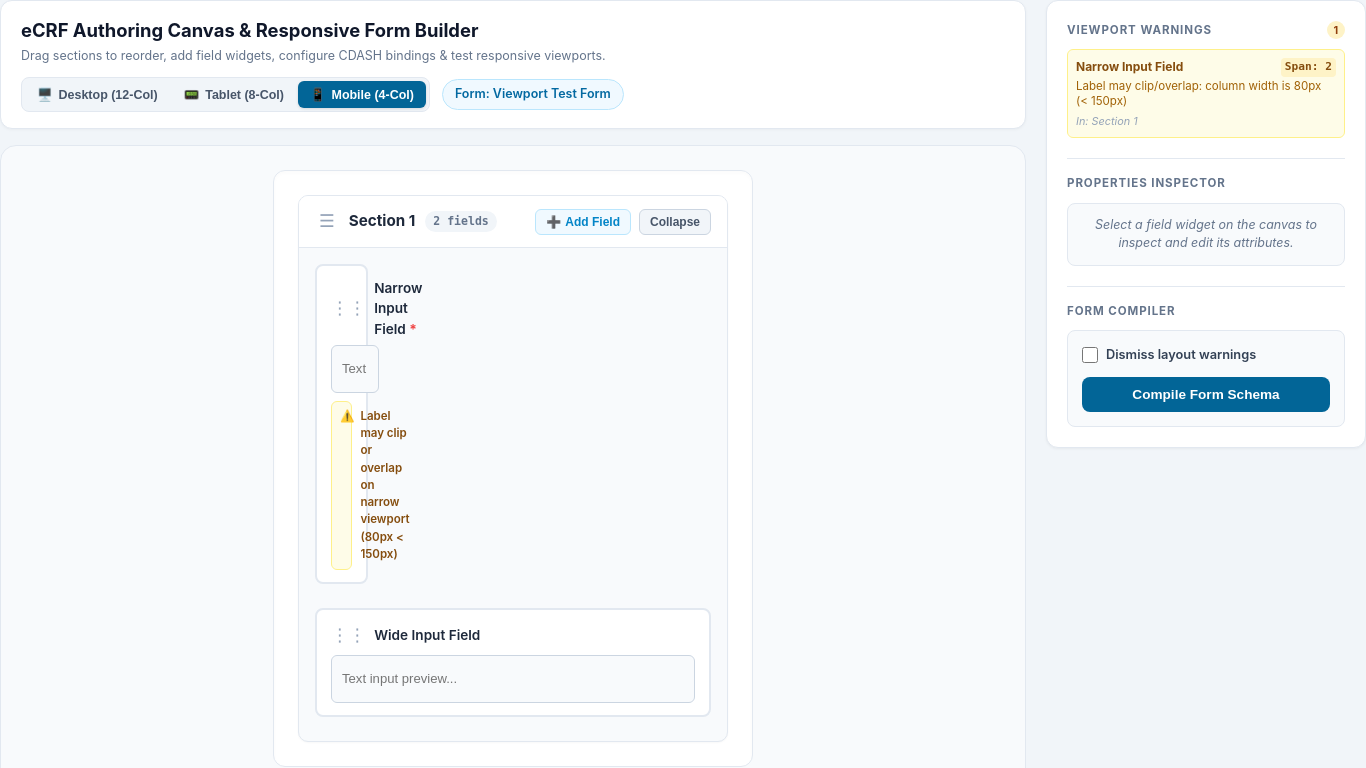
Test case: CrfAuthoringCanvas.vue & Drag-and-Drop Authoring Component Suite › Viewport-Aware Grid Inspector Suite › blocks compiler translation on warnings unless explicitly dismissed
Expected: the text with class "warning-count" reads "1", top-left (1333, 23), bottom-right (1339, 37)
Attempt compilation
Click the button with class "btn-compile".
click(1206, 394)  # box top-left (1082, 376), bottom-right (1330, 412)
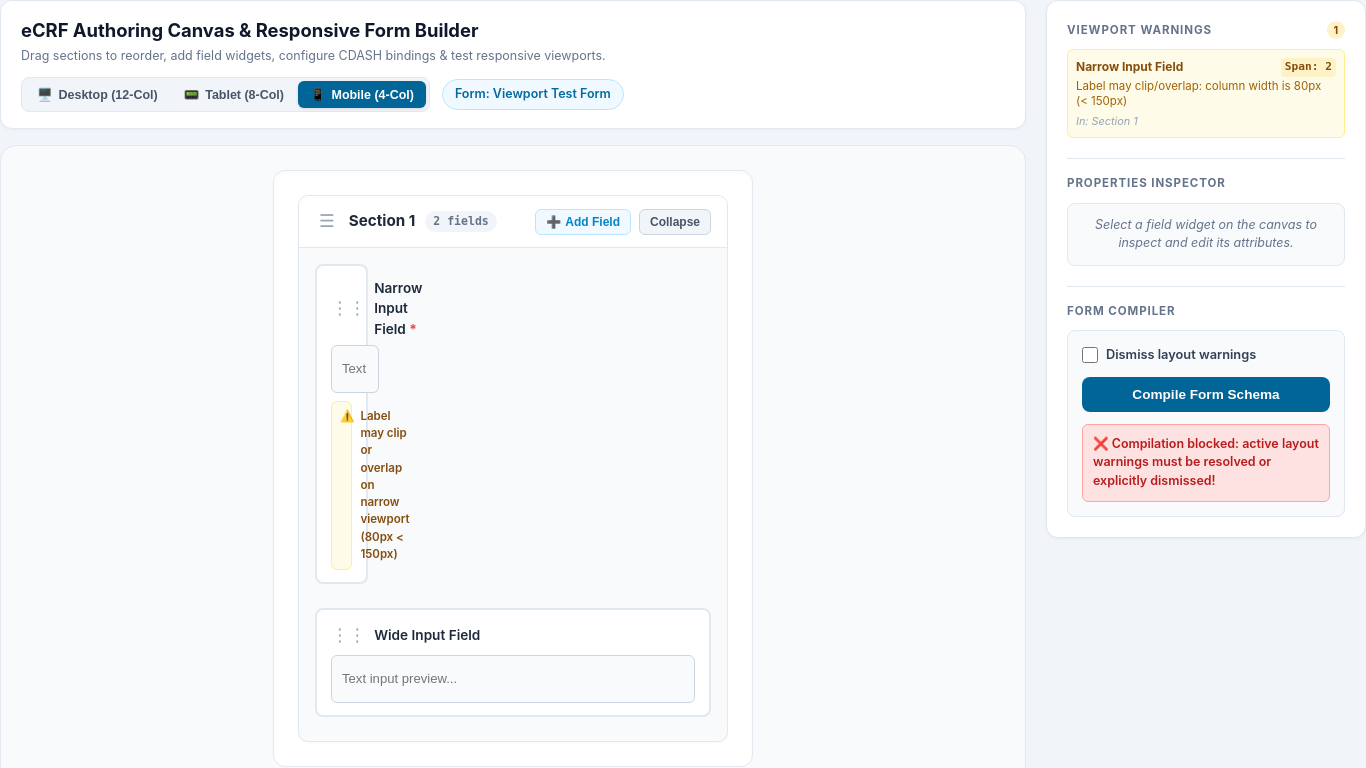
Result: the text with class "compilation-error" is shown at top-left (1082, 424), bottom-right (1330, 502)
Click the checkbox with id "dismiss-warnings-checkbox".
click(1090, 355)  # box top-left (1082, 347), bottom-right (1098, 363)
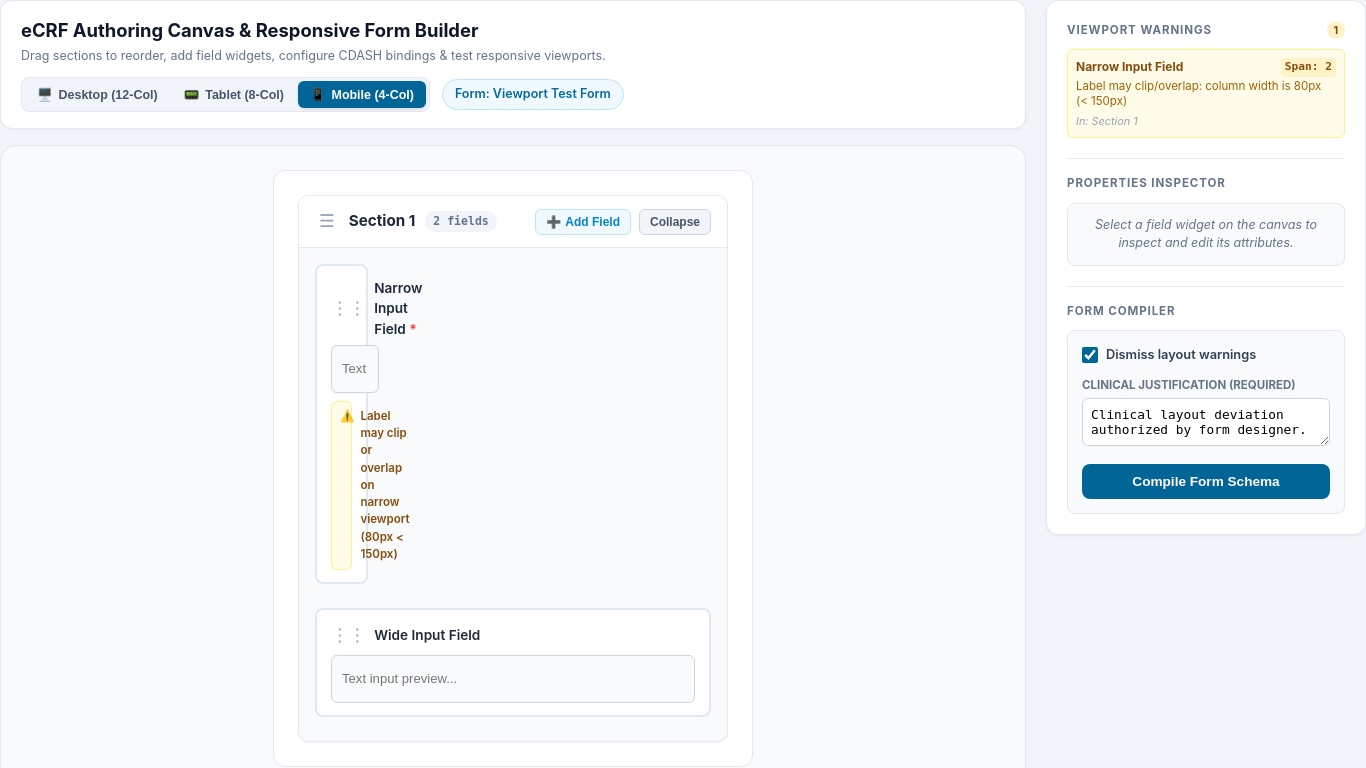
Click the button with class "btn-compile".
click(1206, 481)  # box top-left (1082, 464), bottom-right (1330, 499)
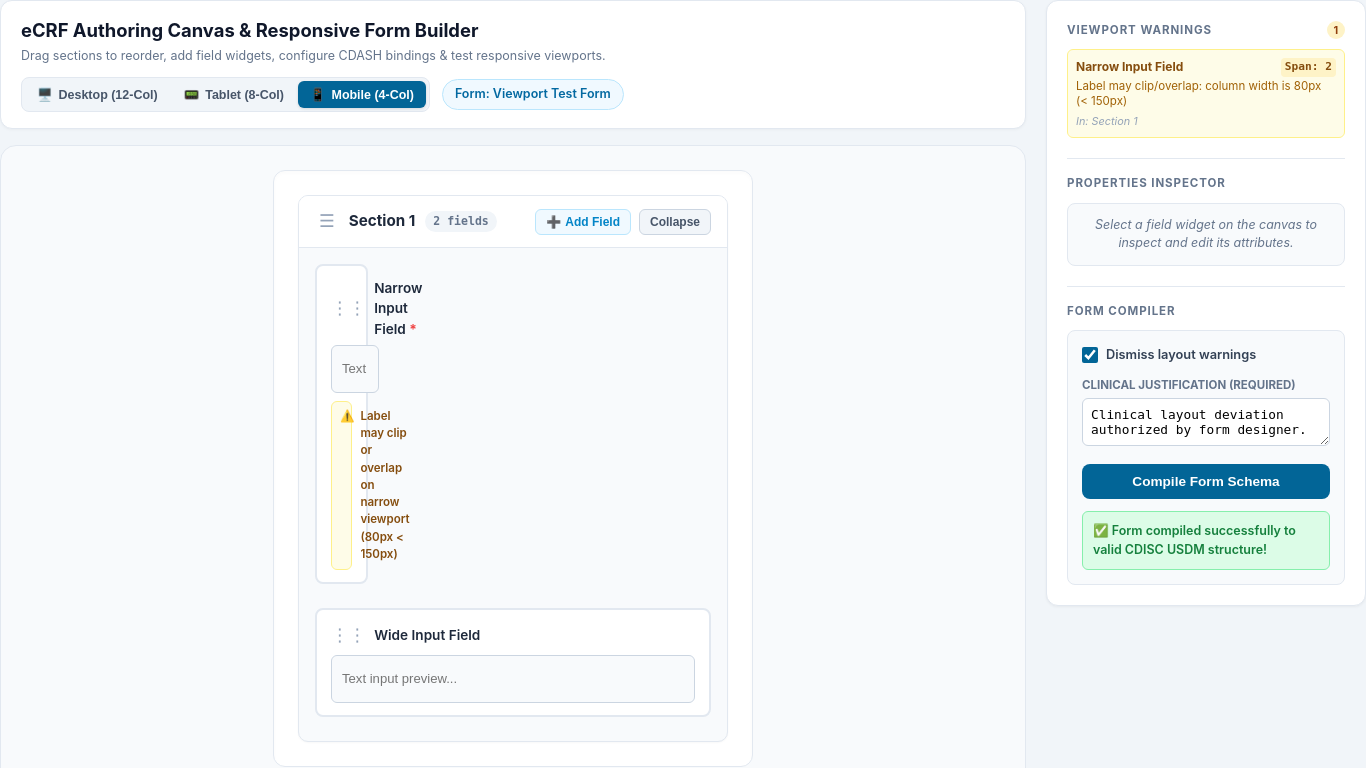
Result: the text "✅ Form compiled successfully to valid CDISC USDM structure!" is shown at top-left (1082, 511), bottom-right (1330, 570)
